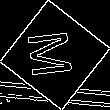M_E: (27, 29, 83, 81)
